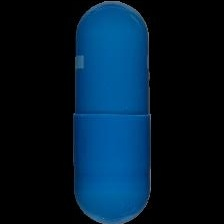35356-446: (0, 0, 224, 224)
